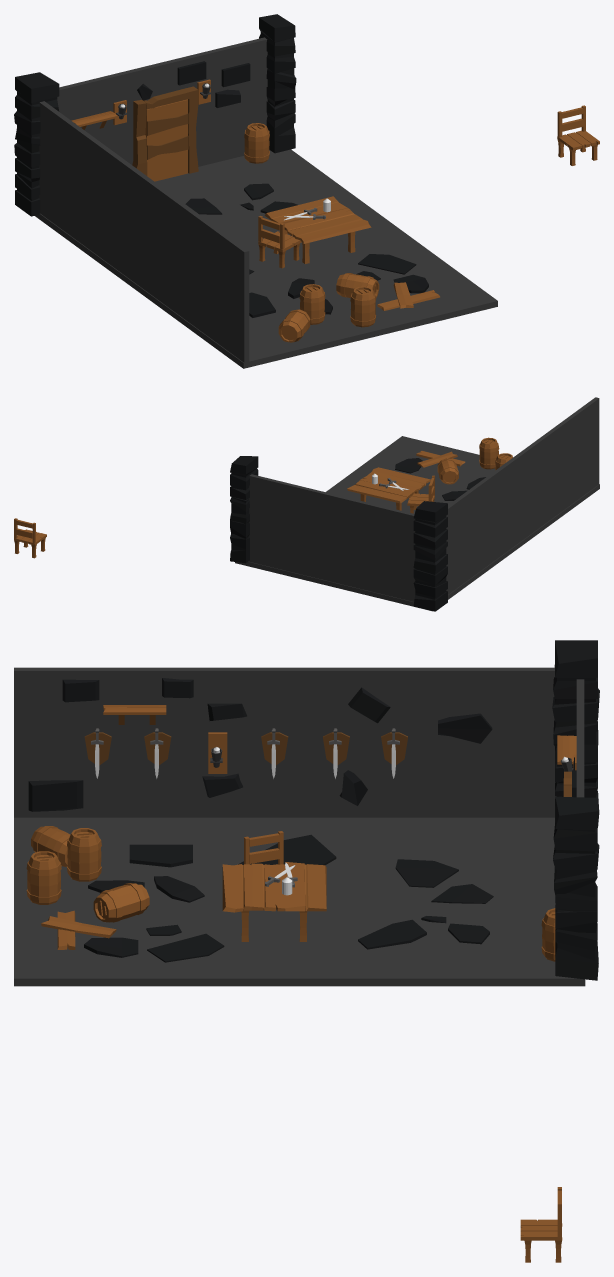
Rendered from Chair.fbx.
3 views of the same model, one above another, from view 1: azimuth 30°, elevation 25°; view 2: azimuth 150°, elevation 25°; view 3: azimuth 270°, elevation 25° (orthographic). The views are drawn at different scales.
Parts seen in each view (by area): view 1: stone_wall_floor, Door, Table, Door Frame, Chair, Chair_2, Barrel, Barrel.002, Barrel.003, Barrel.004, Barrel.001; view 2: stone_wall_floor, Table, Chair, Barrel.002, Barrel.001, Chair_2; view 3: stone_wall_floor, Table, Barrel.001, Barrel.003, Barrel.002, Chair, Barrel.004, Chair_2, candle_of_wall.
Part boxes in pixels (x1,y1,x2,y2): stone_wall_floor: [14, 14, 497, 368]; Door: [145, 99, 188, 181]; Table: [264, 196, 371, 263]; Door Frame: [132, 86, 198, 175]; Chair: [557, 105, 599, 165]; Chair_2: [258, 216, 301, 268]; Barrel: [244, 123, 269, 163]; Barrel.002: [350, 286, 376, 327]; Barrel.003: [299, 284, 325, 324]; Barrel.004: [278, 309, 310, 342]; Barrel.001: [336, 273, 379, 297]; stone_wall_floor: [230, 397, 599, 611]; Table: [347, 467, 430, 510]; Chair: [14, 518, 46, 558]; Barrel.002: [479, 437, 499, 469]; Barrel.001: [437, 458, 458, 484]; Chair_2: [407, 475, 434, 513]; stone_wall_floor: [14, 640, 599, 986]; Table: [222, 862, 326, 941]; Barrel.001: [93, 883, 149, 922]; Barrel.003: [67, 828, 101, 881]; Barrel.002: [26, 851, 61, 904]; Chair: [520, 1187, 562, 1262]; Barrel.004: [31, 826, 70, 866]; Chair_2: [244, 831, 283, 864]; candle_of_wall: [208, 732, 227, 773].
Bounding box in the file's own units: 3431 × 1175 × 2360.
